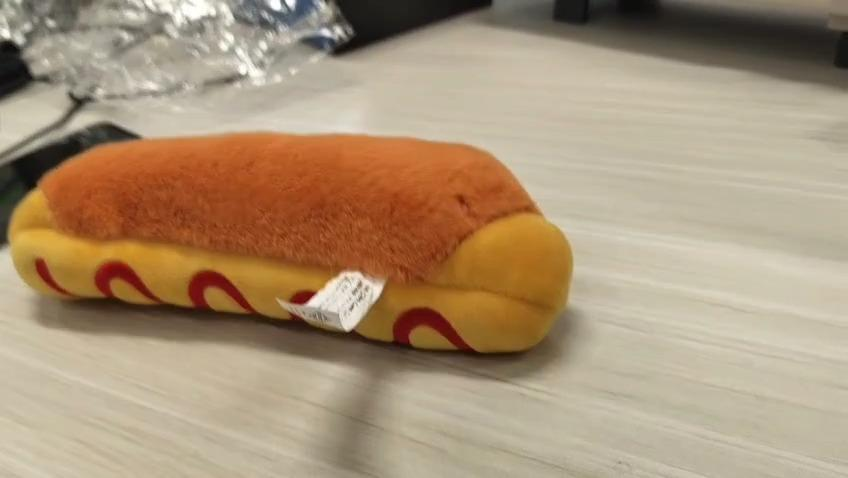hotdog: (8, 130, 573, 358)
